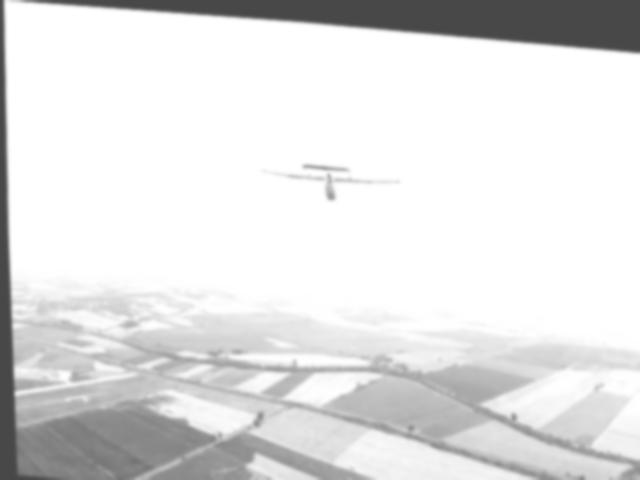hedef: (255, 125, 403, 220)
